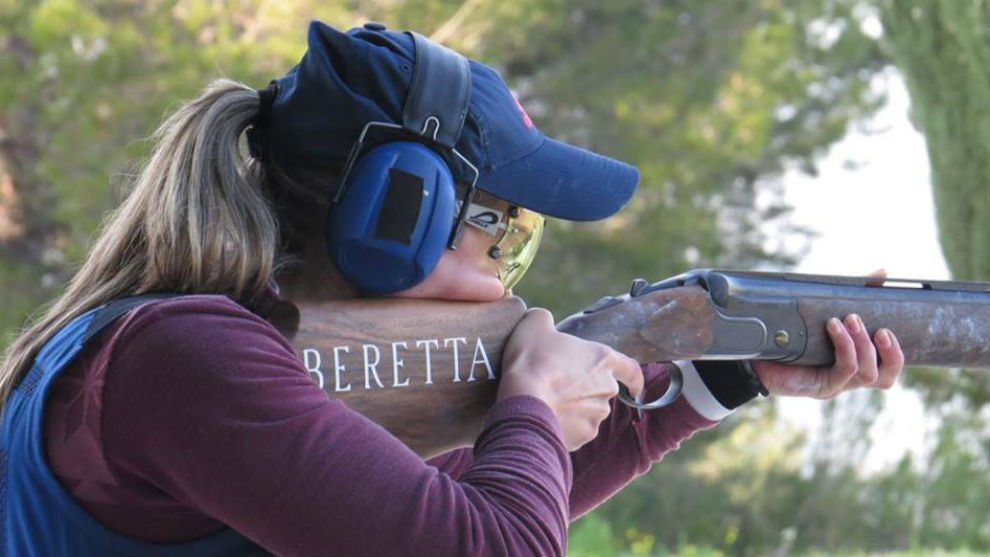weapon: (275, 267, 990, 456)
